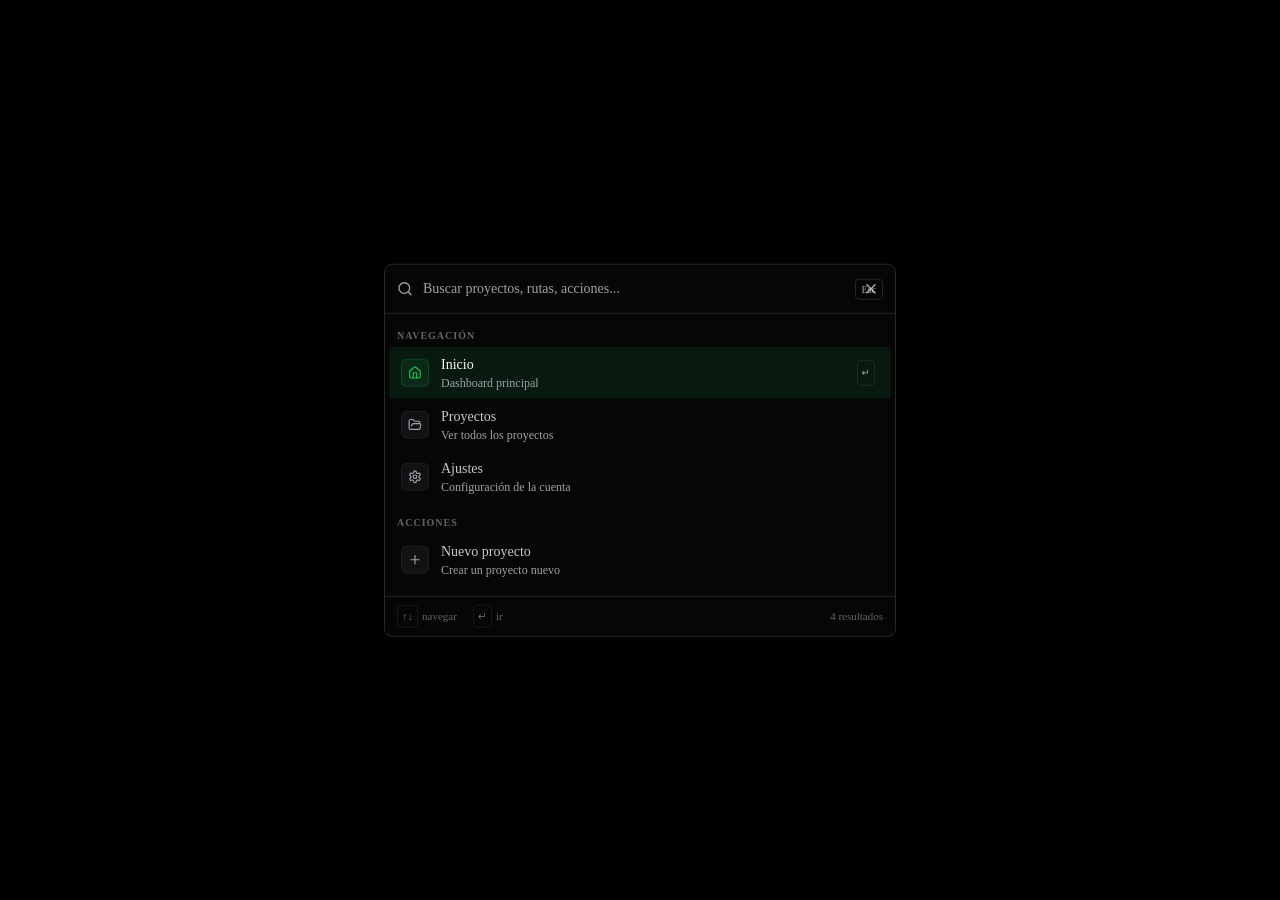
Test: CommandPalette › clears query via ✕ button
Type "mina" into the field with placeholder "Buscar proyectos, rutas, acciones..." at (634, 289), box x1=423 y1=267 x2=844 y2=311
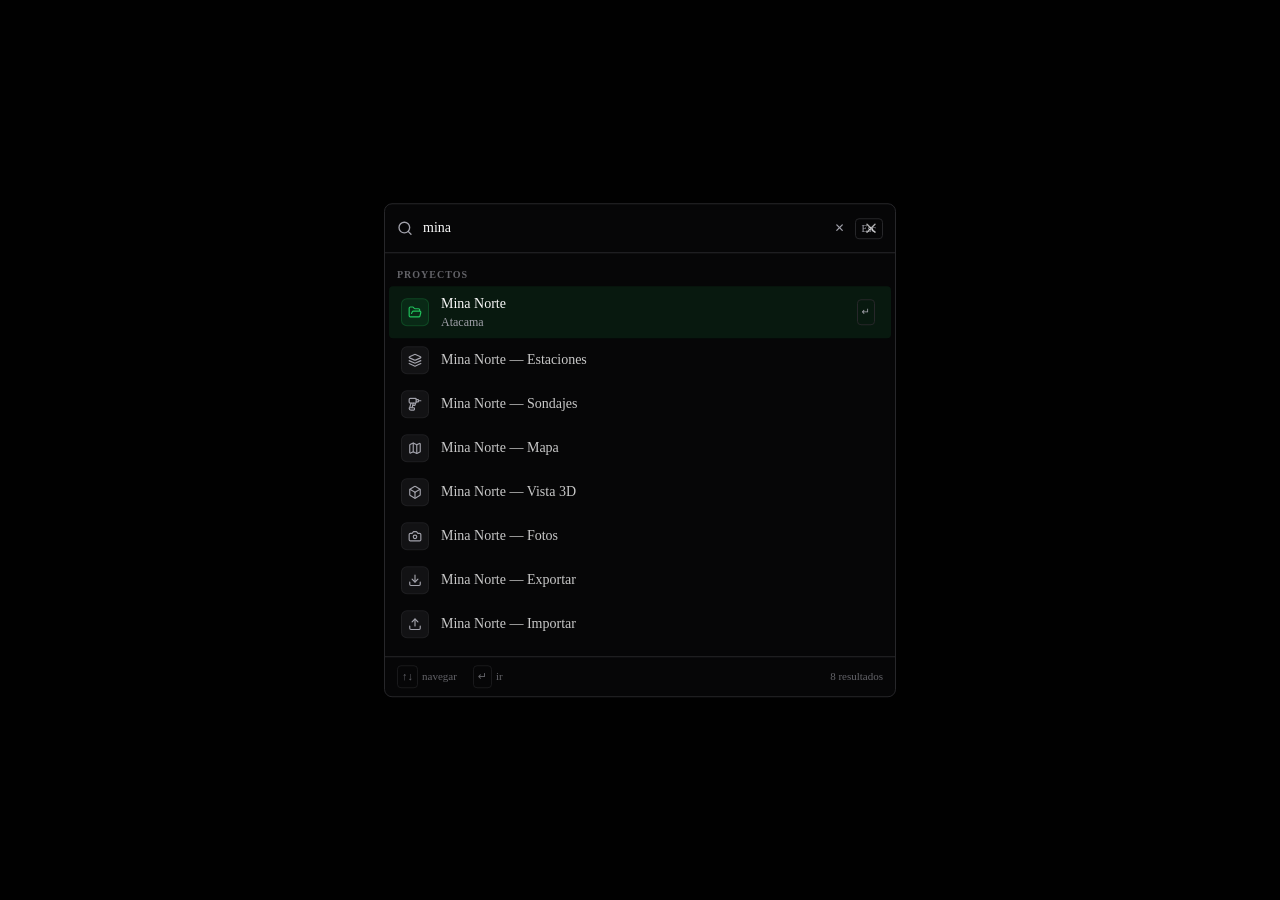
Click the button "✕" at (840, 228), box x1=834 y1=220 x2=845 y2=236
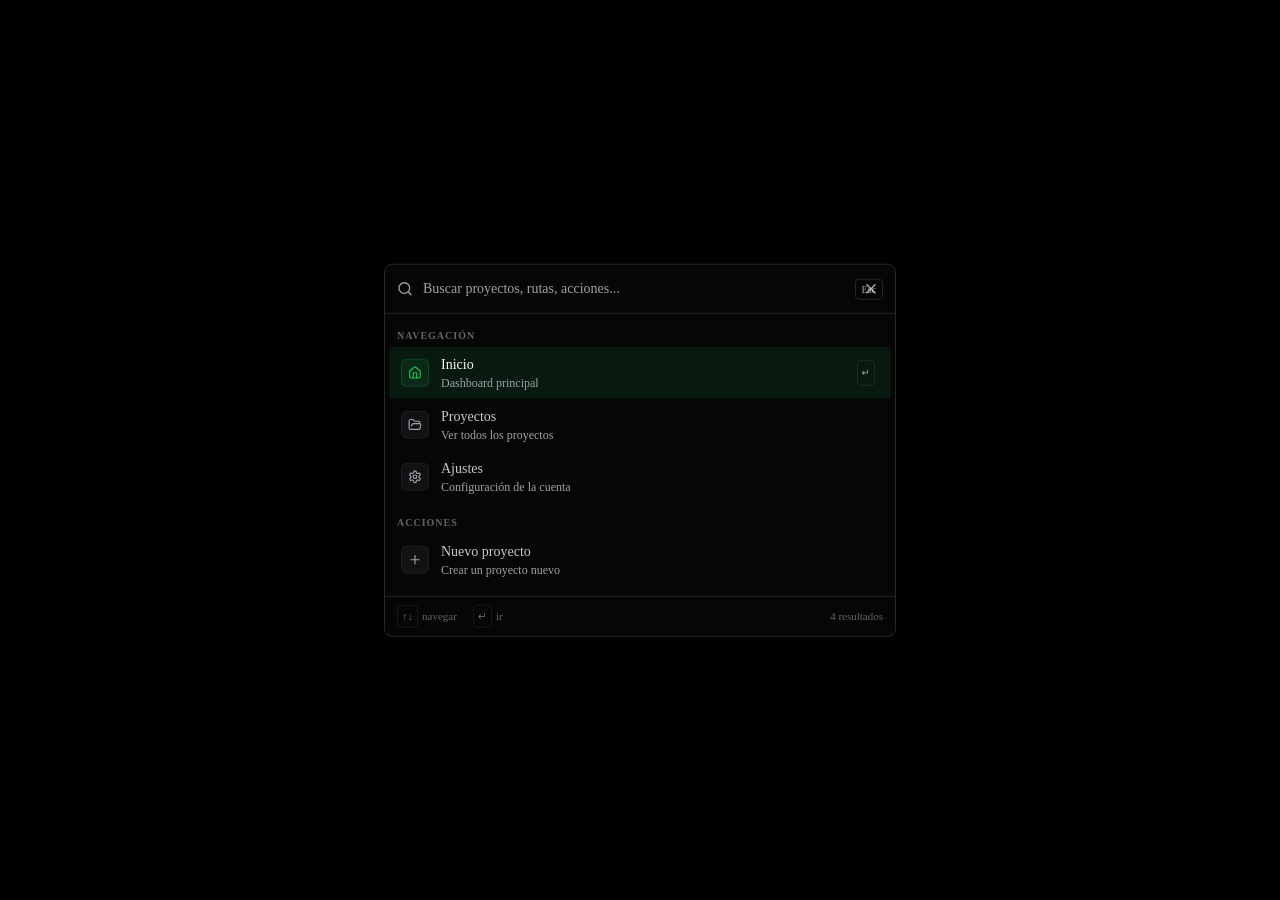
Expected: the field with placeholder "Buscar proyectos, rutas, acciones..." is empty, x1=423 y1=267 x2=844 y2=311
